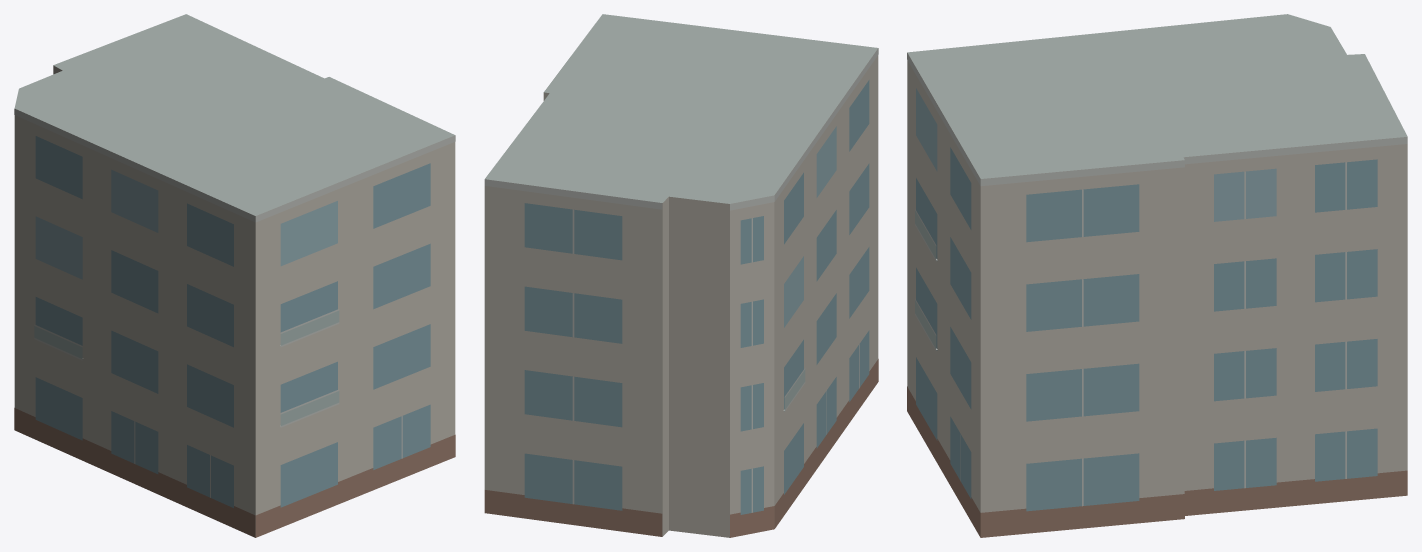
File: survey-upis-32619855.glb
3 views of the same model, side by side, from view 1: azimuth 30°, elevation 25°; view 2: azimuth 150°, elevation 25°; view 3: azimuth 270°, elevation 25° (orthographic). The views are drawn at different scales.
Visible parts, largest first — view 1: survey-upis-32619855.tmp; view 2: survey-upis-32619855.tmp; view 3: survey-upis-32619855.tmp.
Part boxes in pixels (x1,y1,x2,y2): survey-upis-32619855.tmp: (14, 14, 455, 537); survey-upis-32619855.tmp: (484, 14, 878, 537); survey-upis-32619855.tmp: (907, 14, 1407, 537).
Bounding box in the file's own units: 12.05 × 12.2 × 15.44.
